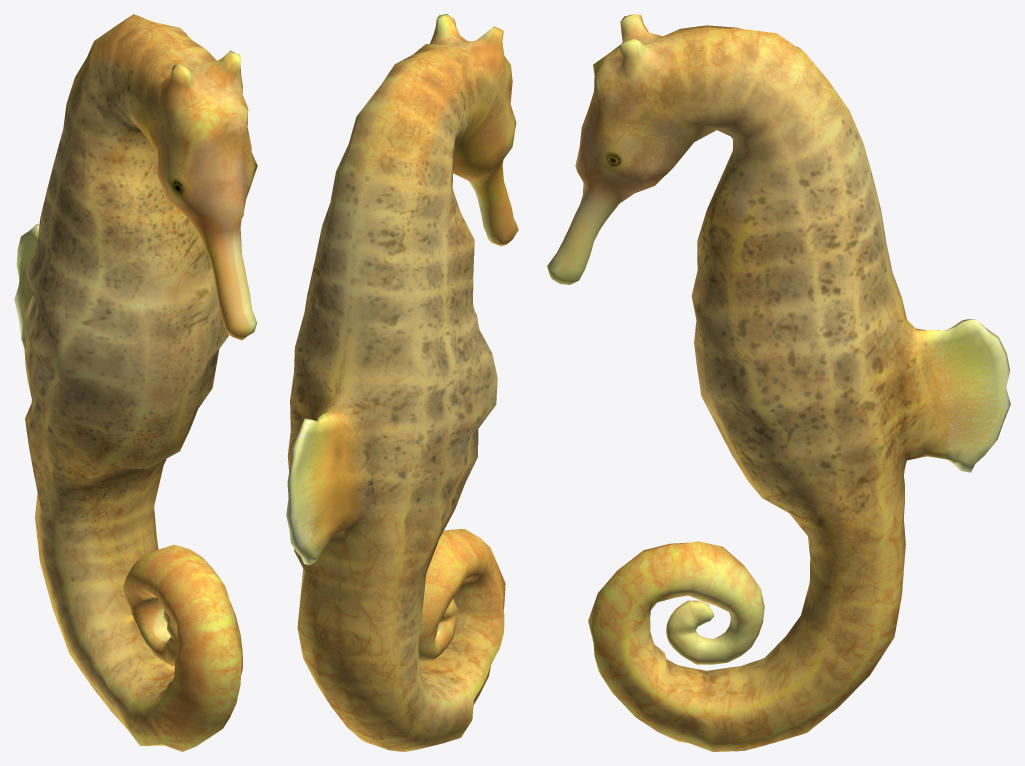
File: seahorse.glb
3 renders of one model, left to right at view 1: azimuth 30°, elevation 25°; view 2: azimuth 150°, elevation 25°; view 3: azimuth 270°, elevation 25°, orthographic. The views are drawn at different scales.
Parts seen in each view (by area): view 1: Object_2; view 2: Object_2; view 3: Object_2.
Part boxes in pixels (<box>): Object_2: <box>14,14,257,751</box>; Object_2: <box>286,14,518,751</box>; Object_2: <box>547,14,1010,751</box>.
Bounding box in the file's own units: 39.86 × 149 × 86.64.
1 material, 1 textured.
